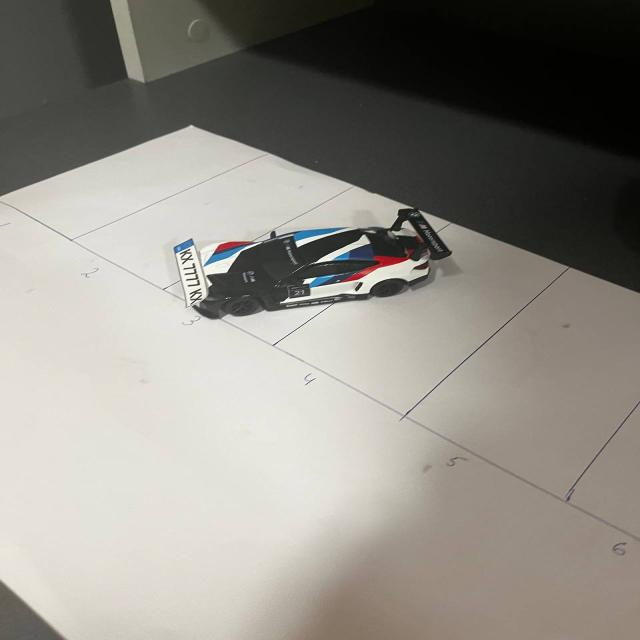cars: (148, 196, 488, 344)
